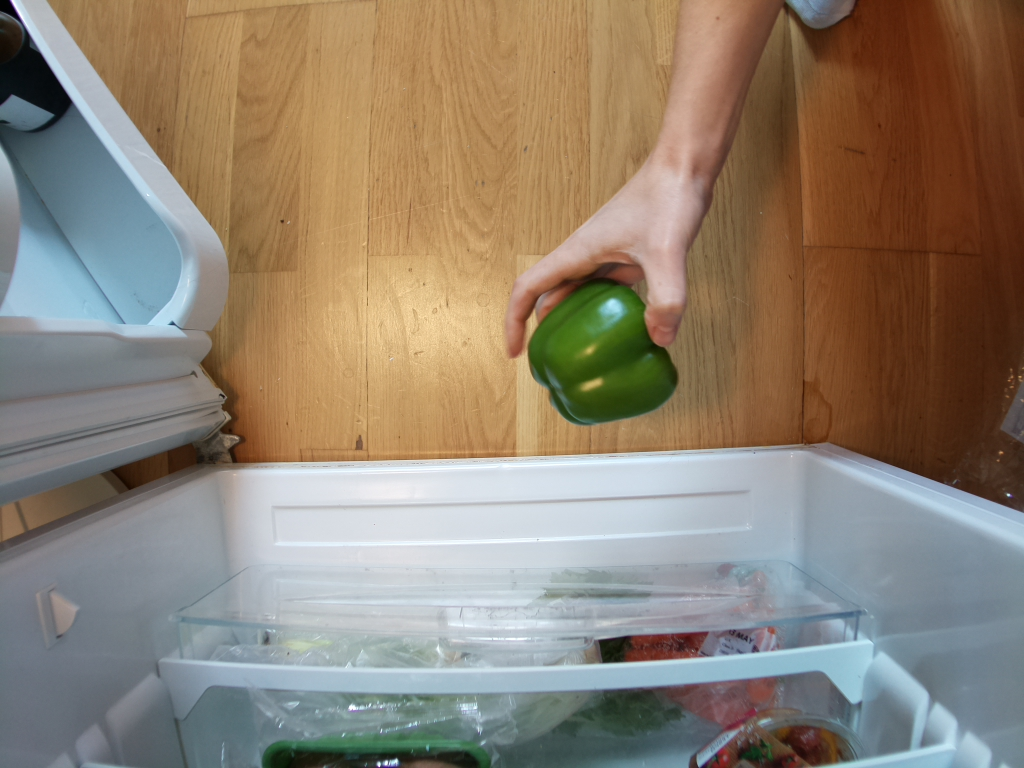pepper: (529, 278, 679, 424)
